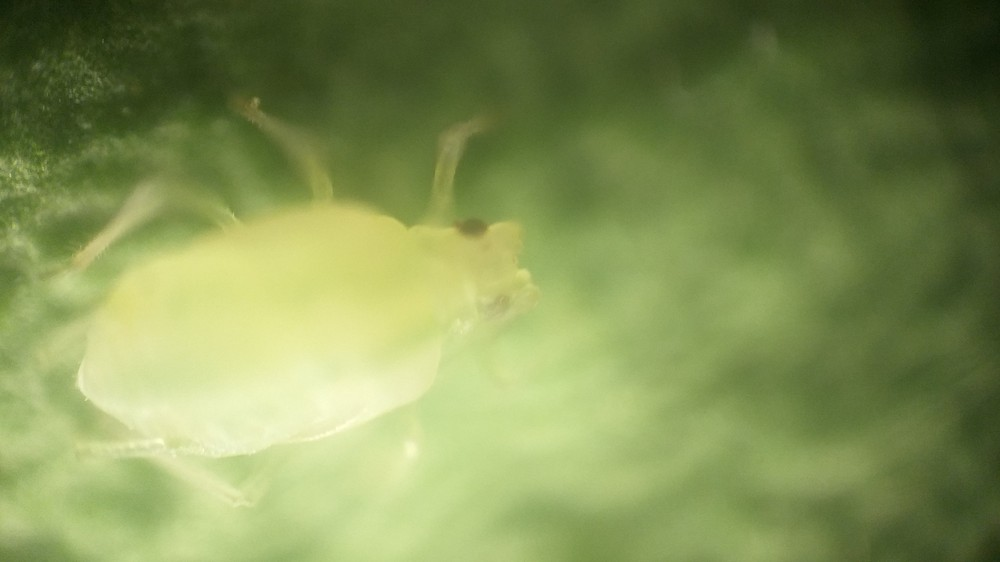Pulgon: (56, 76, 570, 523)
